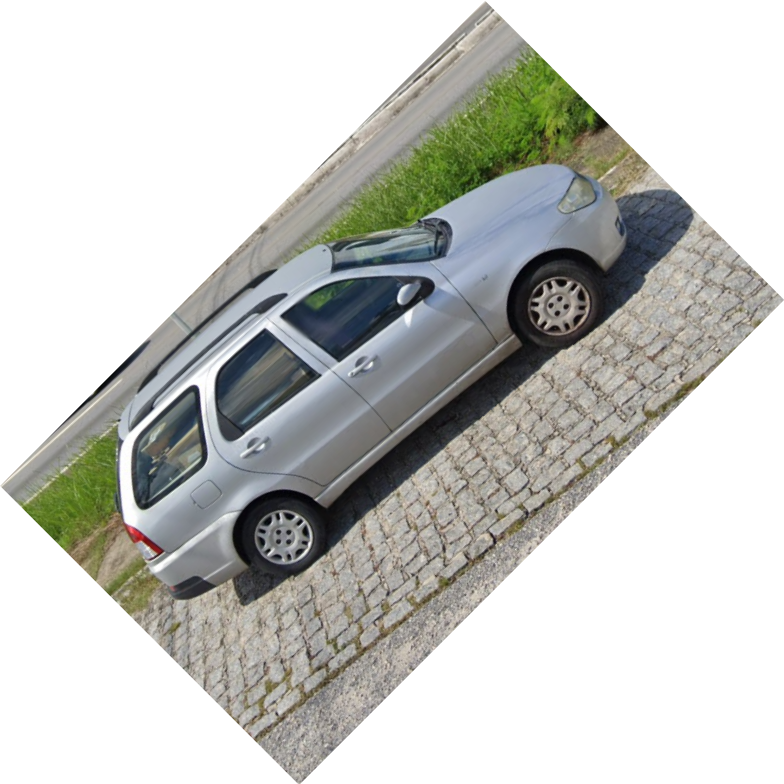car: (111, 163, 629, 604)
